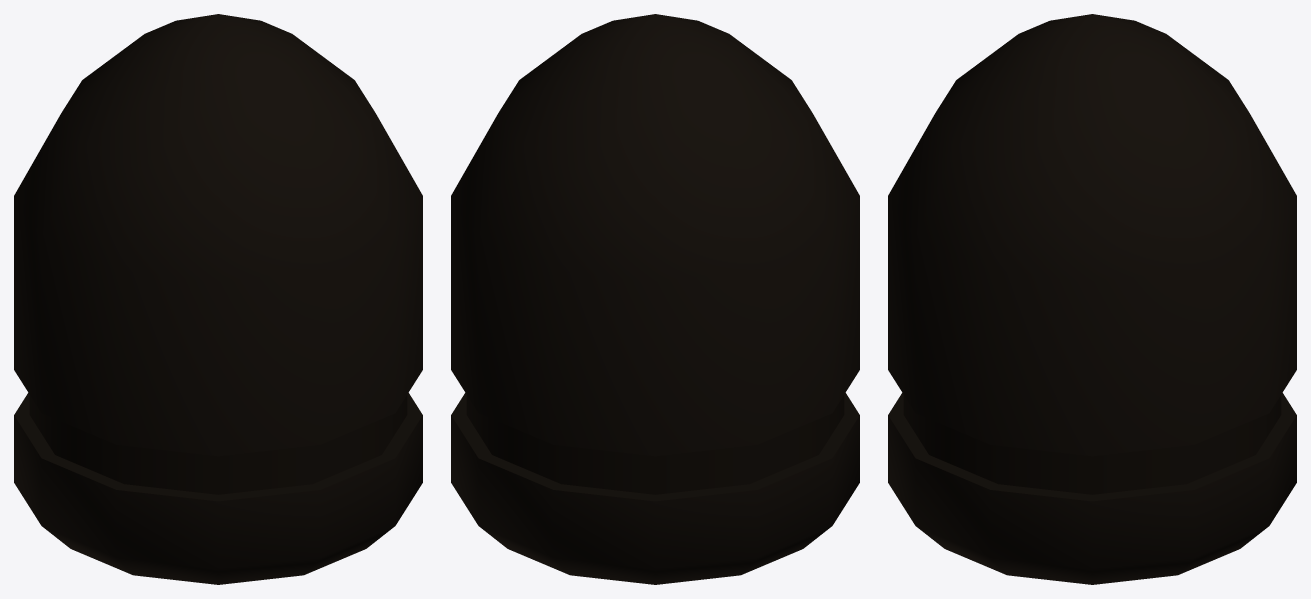
Rendered from mortarShell.fbx.
3 renders of one model, left to right at view 1: azimuth 30°, elevation 25°; view 2: azimuth 150°, elevation 25°; view 3: azimuth 270°, elevation 25°, orthographic.
Visible parts, largest first — view 1: mortarShell; view 2: mortarShell; view 3: mortarShell.
Boxes of the visible parts, box(x1,y1,x2,y2) form: mortarShell: box(14, 14, 422, 584); mortarShell: box(451, 14, 859, 584); mortarShell: box(888, 14, 1296, 584).
Bounding box in the file's own units: 50 × 67.32 × 50.
